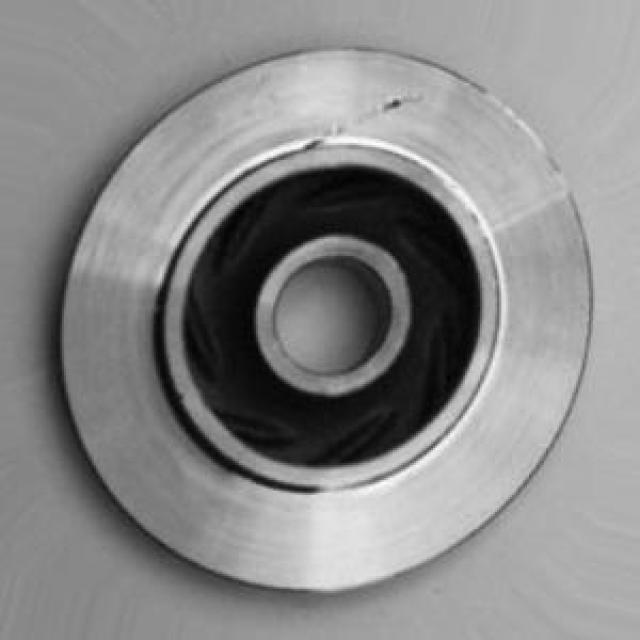Defect: (363, 88, 442, 123)
